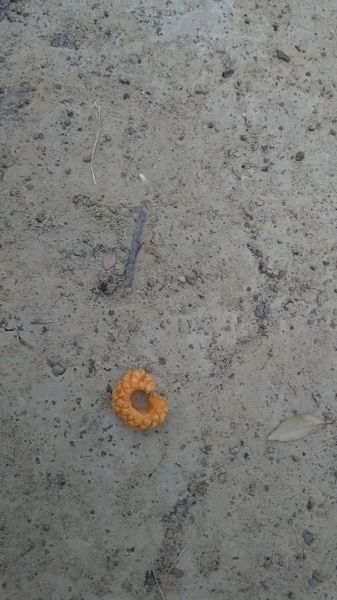eggs: (109, 371, 178, 440)
